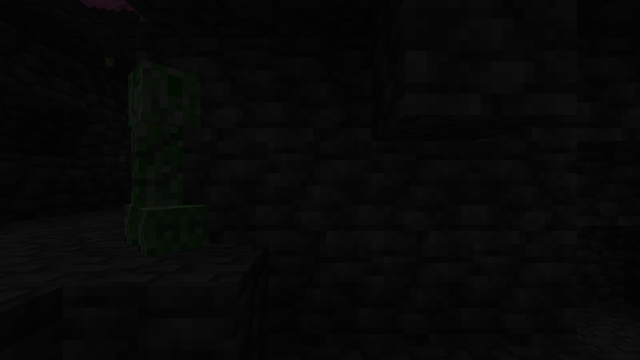creepers: (109, 53, 195, 251)
